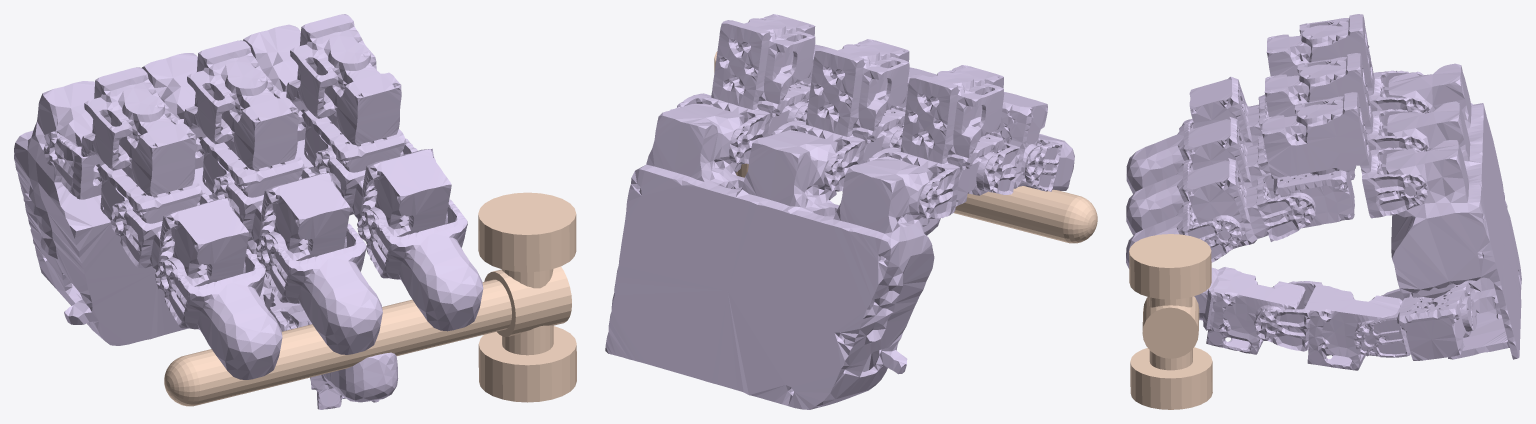
File: e59b6fda69154c-closed.glb
3 renders of one model, left to right at view 1: azimuth 30°, elevation 25°; view 2: azimuth 150°, elevation 25°; view 3: azimuth 270°, elevation 25°, orthographic. The views are drawn at different scales.
Parts seen in each view (by area): view 1: LEAP_hand, world; view 2: LEAP_hand, world; view 3: LEAP_hand, world.
Part boxes in pixels (x1,y1,x2,y2): LEAP_hand: (14,14,483,409); world: (164,192,576,406); LEAP_hand: (605,14,1074,409); world: (714,51,1097,243); LEAP_hand: (1126,14,1521,370); world: (1129,234,1212,409).
Bounding box in the file's own units: 0.1793 × 0.1391 × 0.1828.
